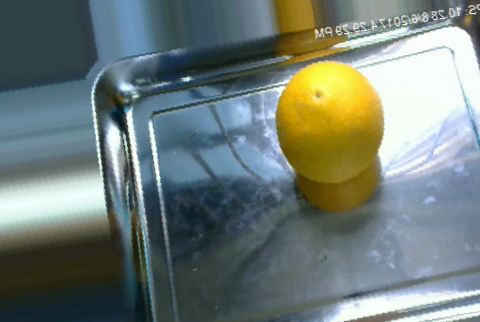Orange: (274, 59, 383, 181)
